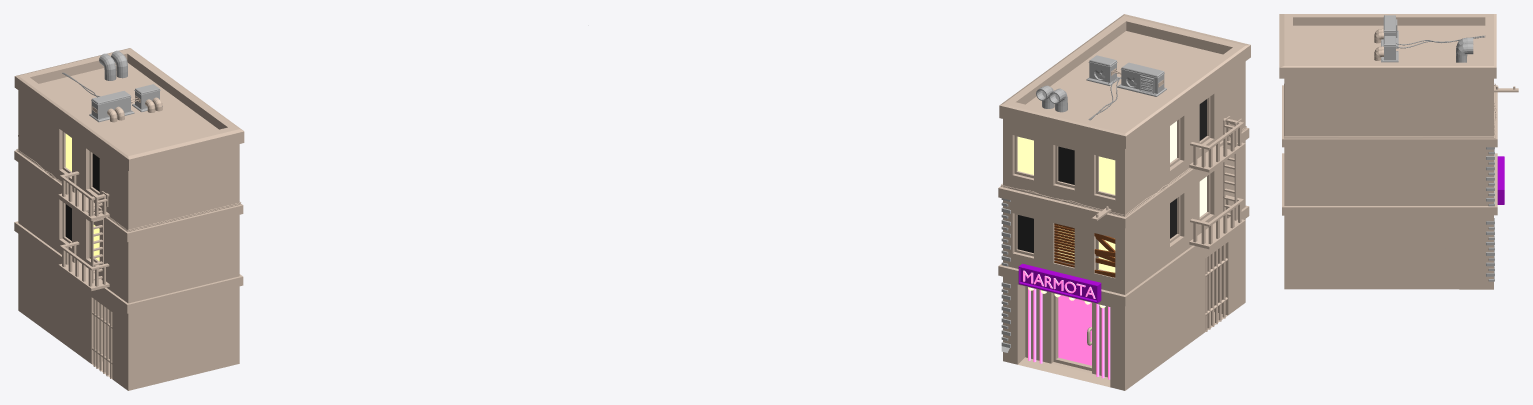
The model's file is building01.fbx.
3 renders of one model, left to right at view 1: azimuth 30°, elevation 25°; view 2: azimuth 150°, elevation 25°; view 3: azimuth 270°, elevation 25°, orthographic. The views are drawn at different scales.
Visible parts, largest first — view 1: Cube.001; view 2: Cube.001; view 3: Cube.001.
Boxes of the visible parts, x1,y1,x2,y2 form: Cube.001: (14,48,244,390); Cube.001: (998,14,1250,390); Cube.001: (1279,14,1518,289).
Size of the model in its own units: 47.75 by 21.14 by 19.47.
